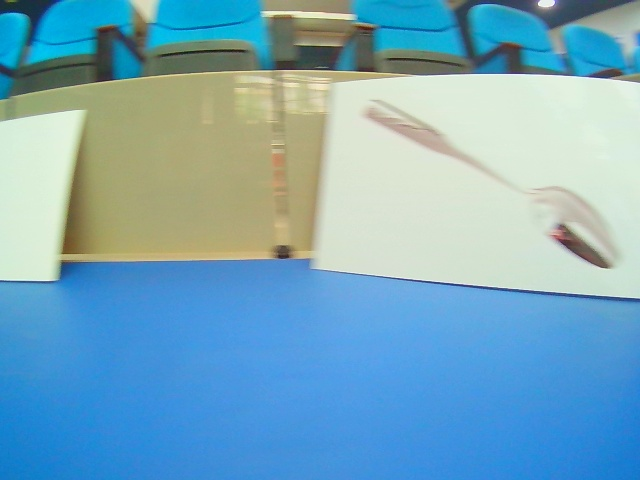dish: (311, 75, 640, 302)
